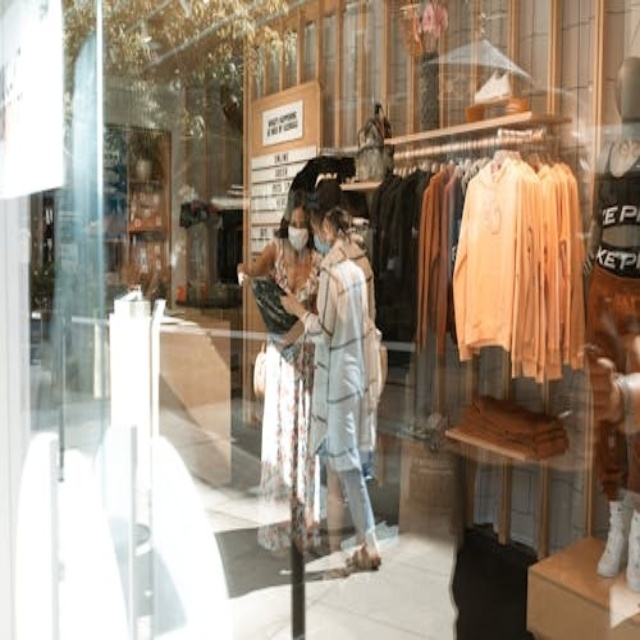Mascara: (287, 226, 310, 251), (312, 232, 332, 255)
Sin_guantes: (584, 346, 621, 422)
